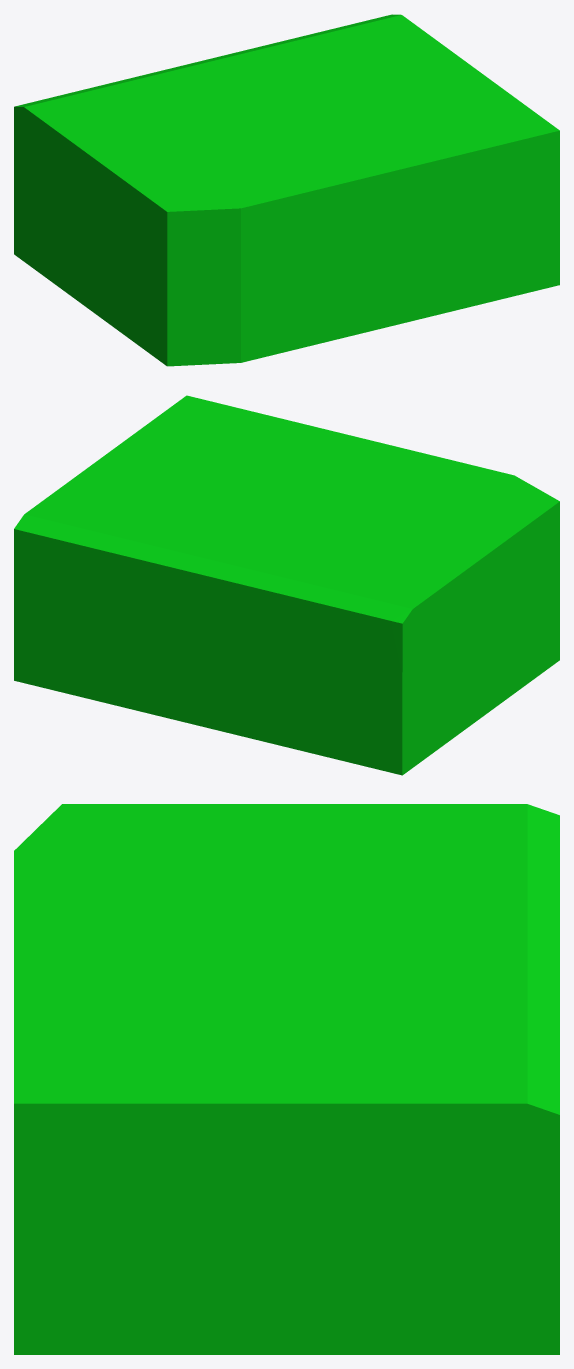
File: simple_example_hole_part_59.obj
3 renders of one model, top to bottom at view 1: azimuth 30°, elevation 25°; view 2: azimuth 150°, elevation 25°; view 3: azimuth 270°, elevation 25°, orthographic. The views are drawn at different scales.
Bounding box in the file's own units: 26.78 × 10.46 × 20.62.
